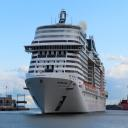cruises: (23, 10, 111, 116)
